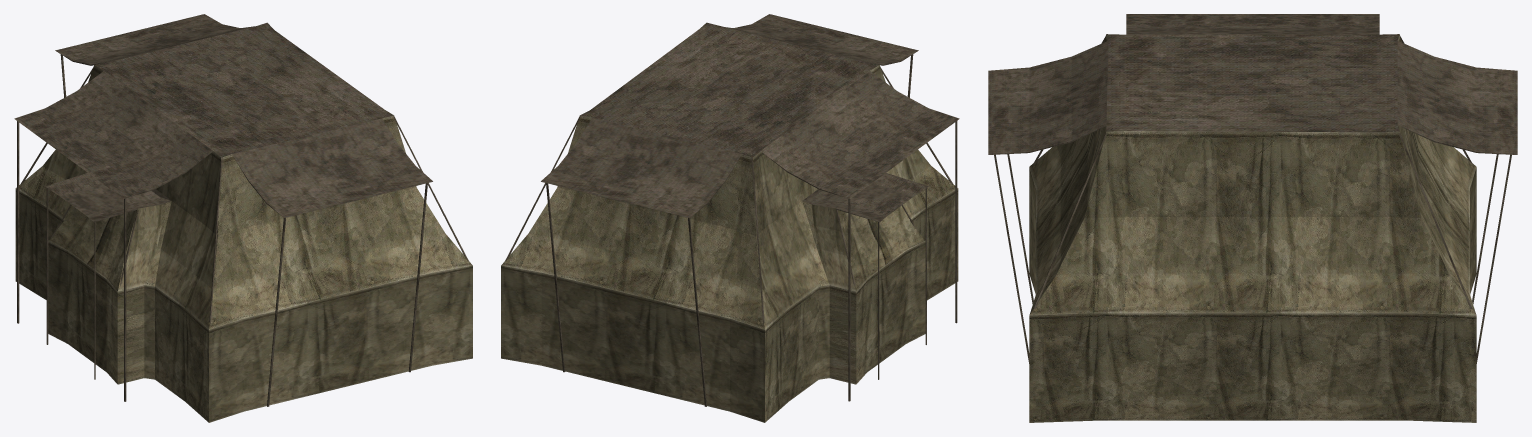
The model's file is eqp_camping_tent_s4_l0.fbx.
The picture shows the model from 3 angles, left to right: view 1: azimuth 30°, elevation 25°; view 2: azimuth 150°, elevation 25°; view 3: azimuth 270°, elevation 25°; orthographic projection. The views are drawn at different scales.
Visible parts, largest first — view 1: mesh_node; view 2: mesh_node; view 3: mesh_node.
Part boxes in pixels (<box>): mesh_node: <box>14,14,472,422</box>; mesh_node: <box>501,14,959,422</box>; mesh_node: <box>988,14,1517,422</box>.
Size of the model in its own units: 5.14 by 3.67 by 6.63.
